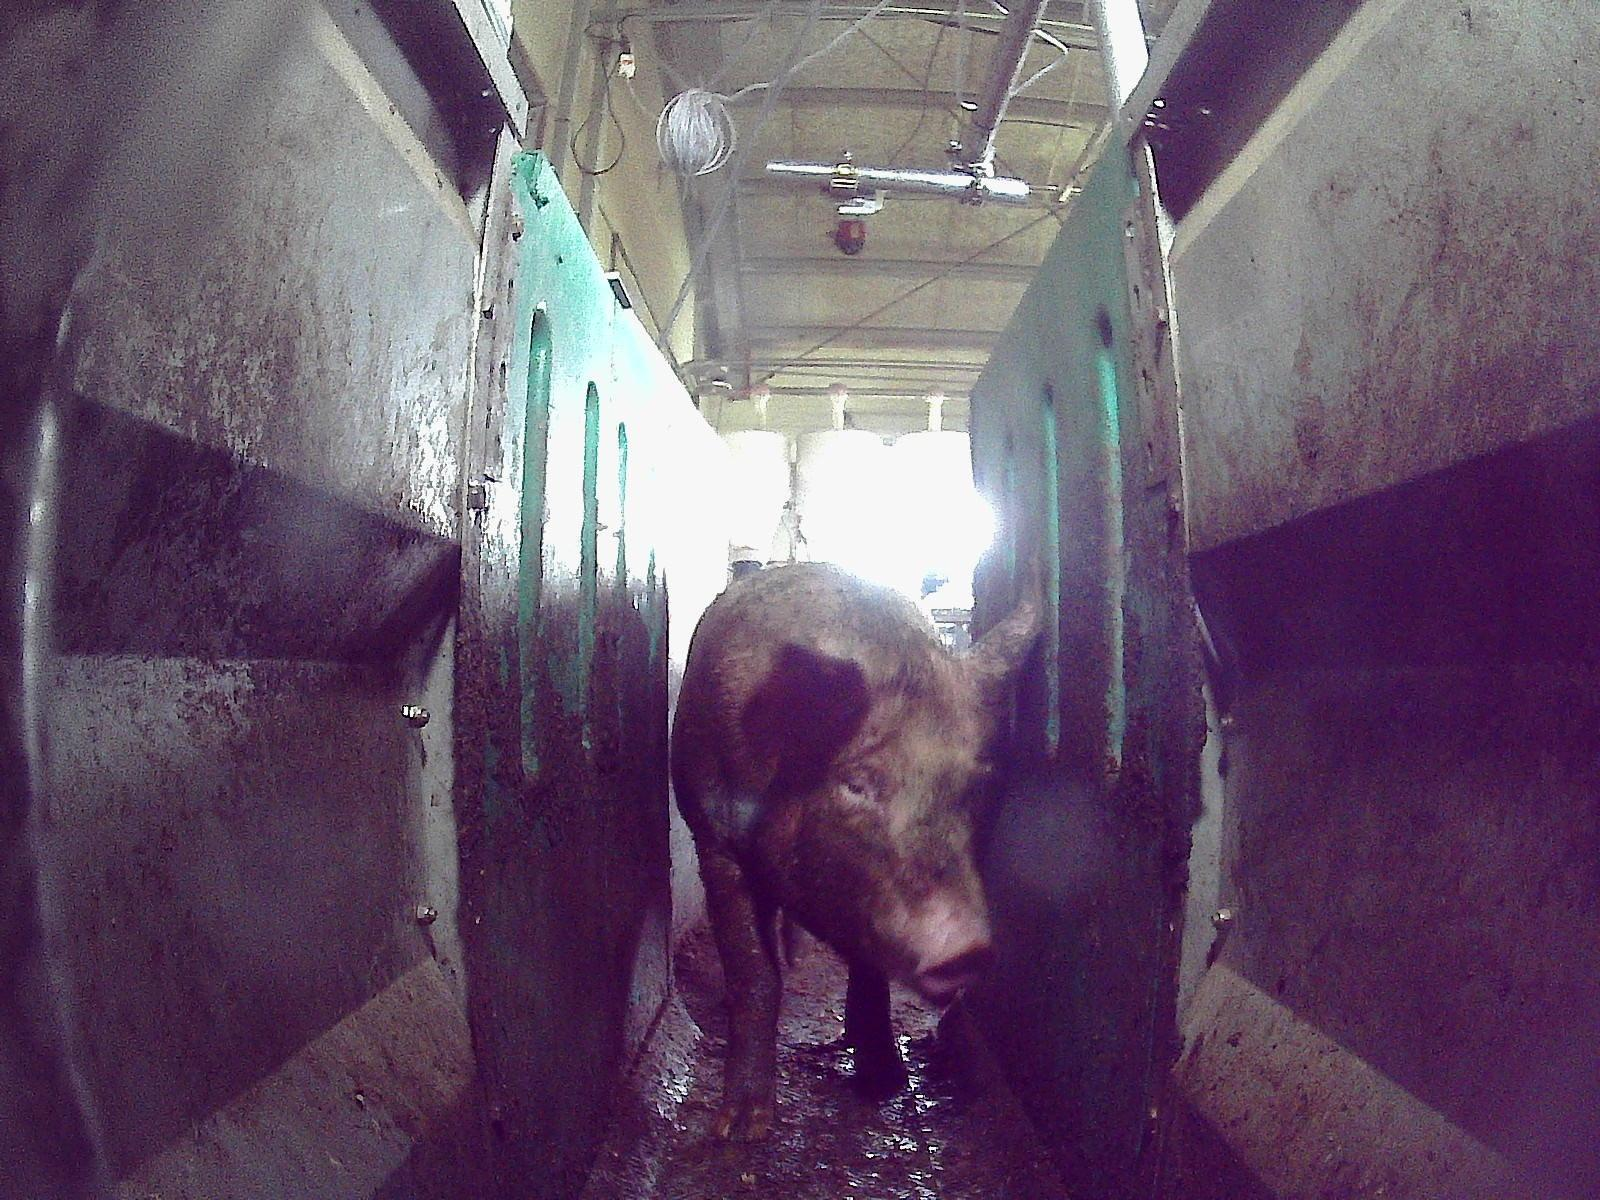Face: (794, 697, 992, 1002)
